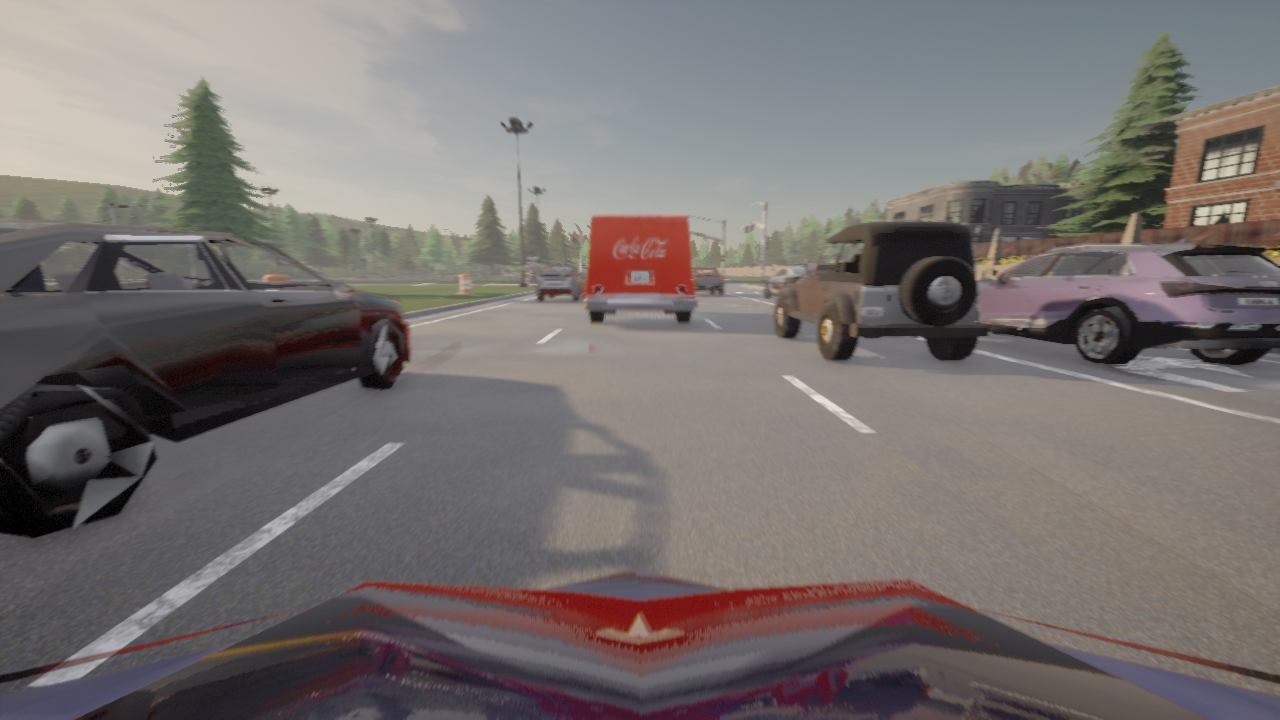cyclist: (0, 569, 1279, 719), (977, 239, 1279, 365), (774, 221, 990, 360), (584, 215, 696, 322), (536, 266, 586, 301), (764, 263, 814, 298), (692, 268, 723, 295)
